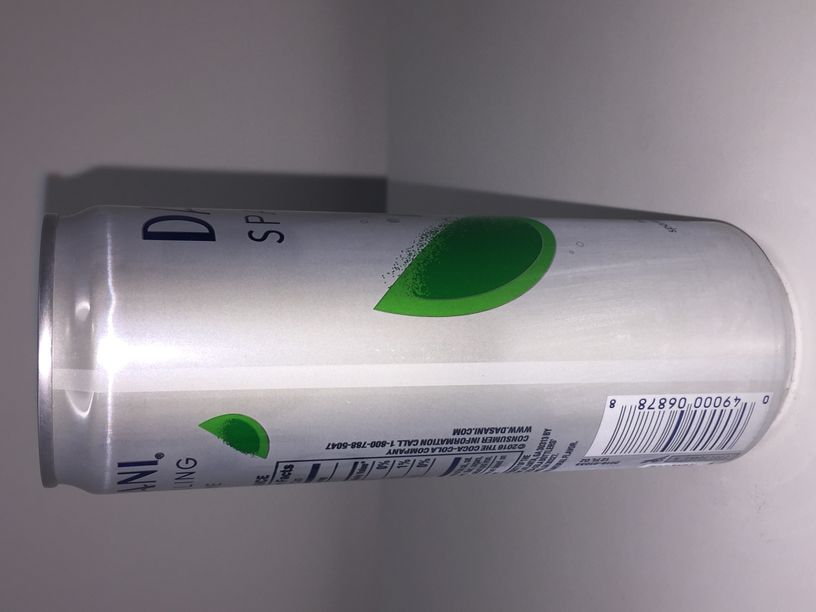lime: (32, 202, 801, 498)
